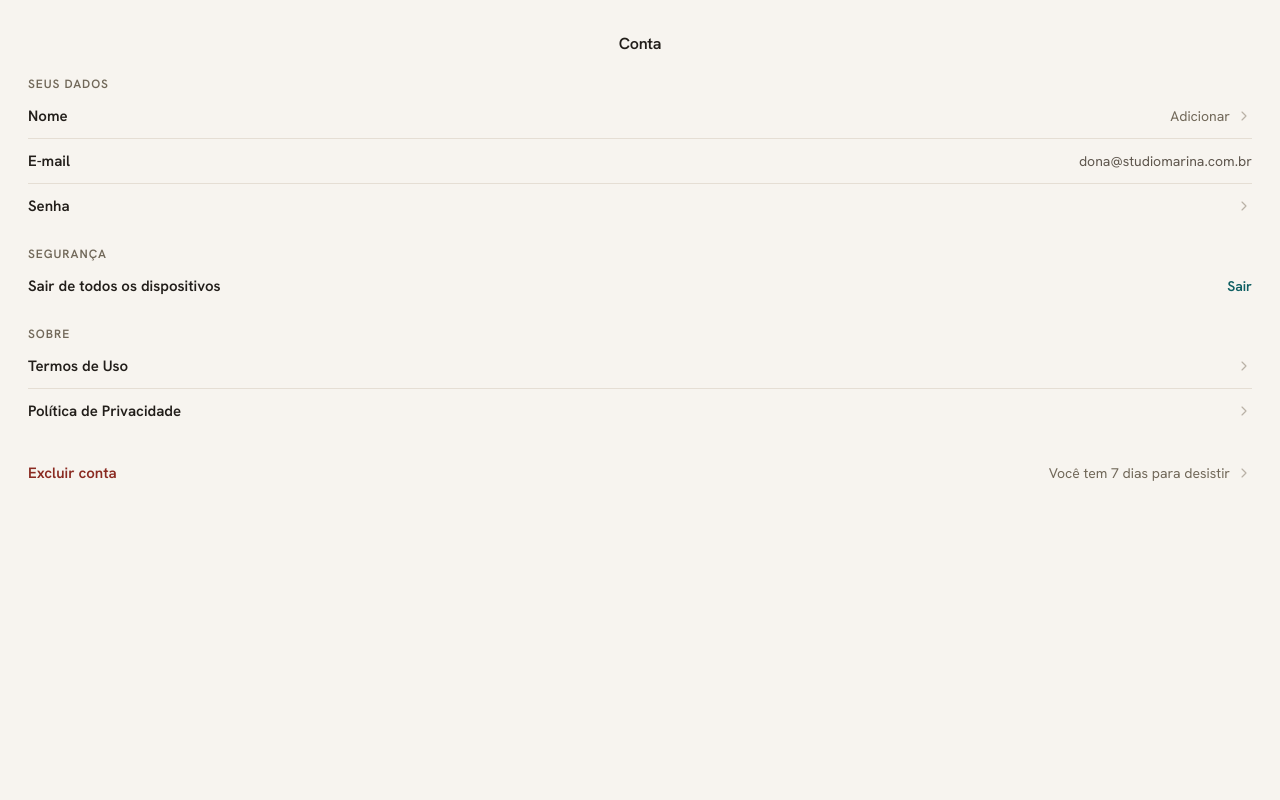
Test: Conta mostra e edita o nome (Goal067) › salvar grava pelo PATCH /v1/account/profile e relê a sessão
Click the button "Nome Adicionar".
click(48, 116)  # box [28,94,1252,139]
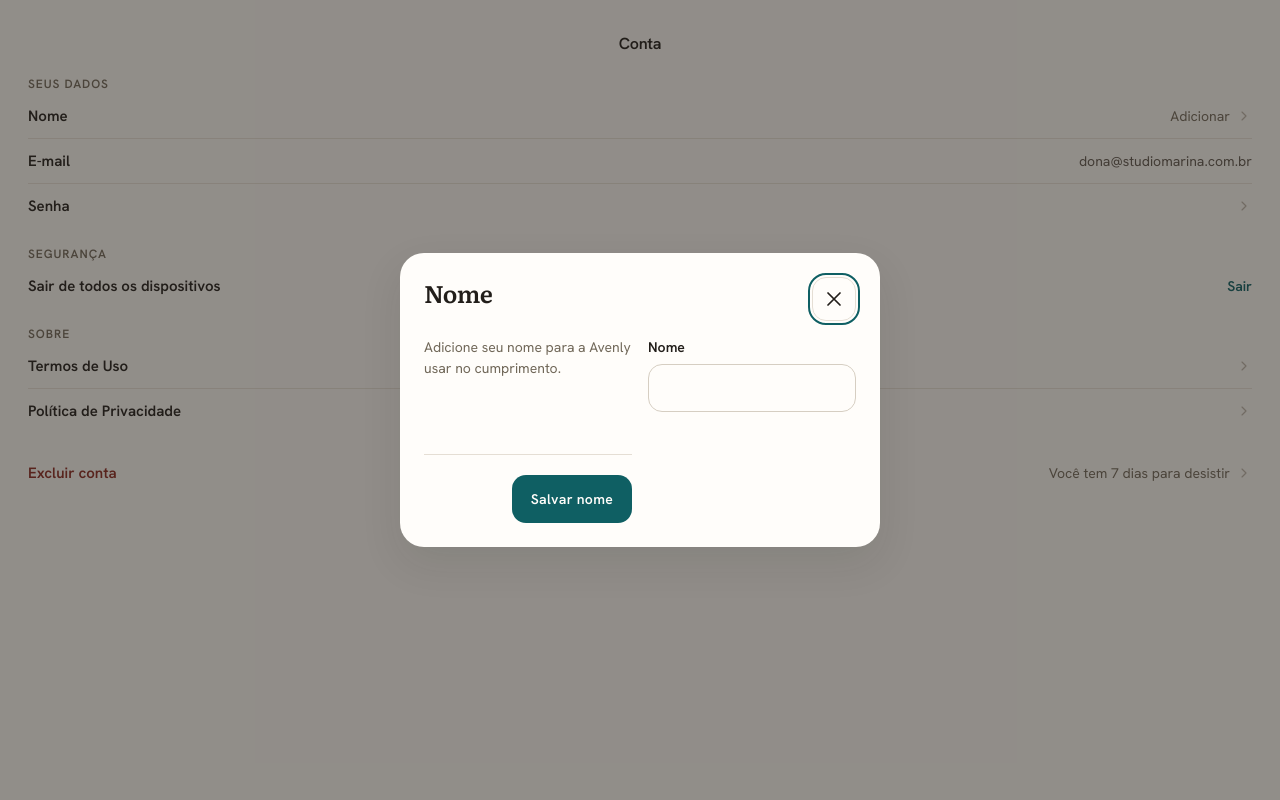
Type "Maria Clara" into the field labelled "Nome".
click(752, 388); type("Maria Clara")  # box [648,364,856,412]
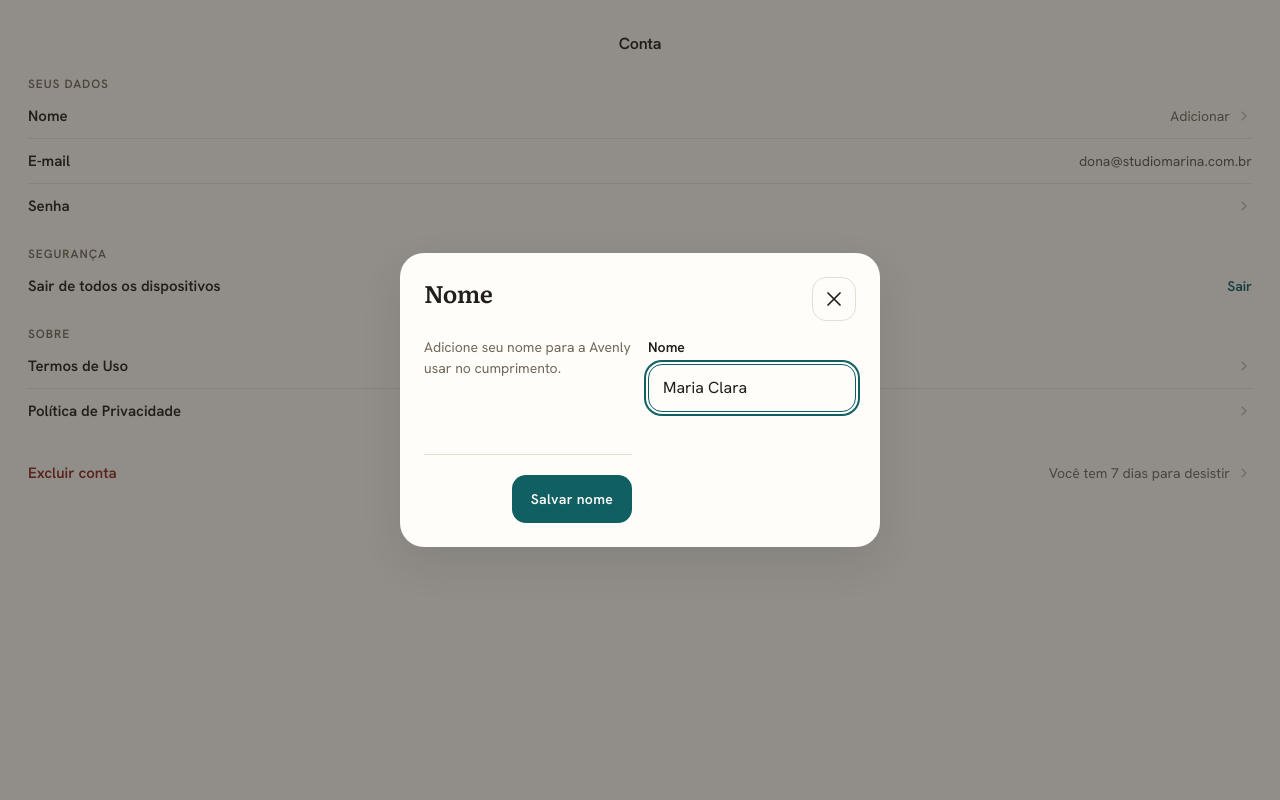
Click the button "Salvar nome".
click(572, 499)  # box [512,475,632,523]
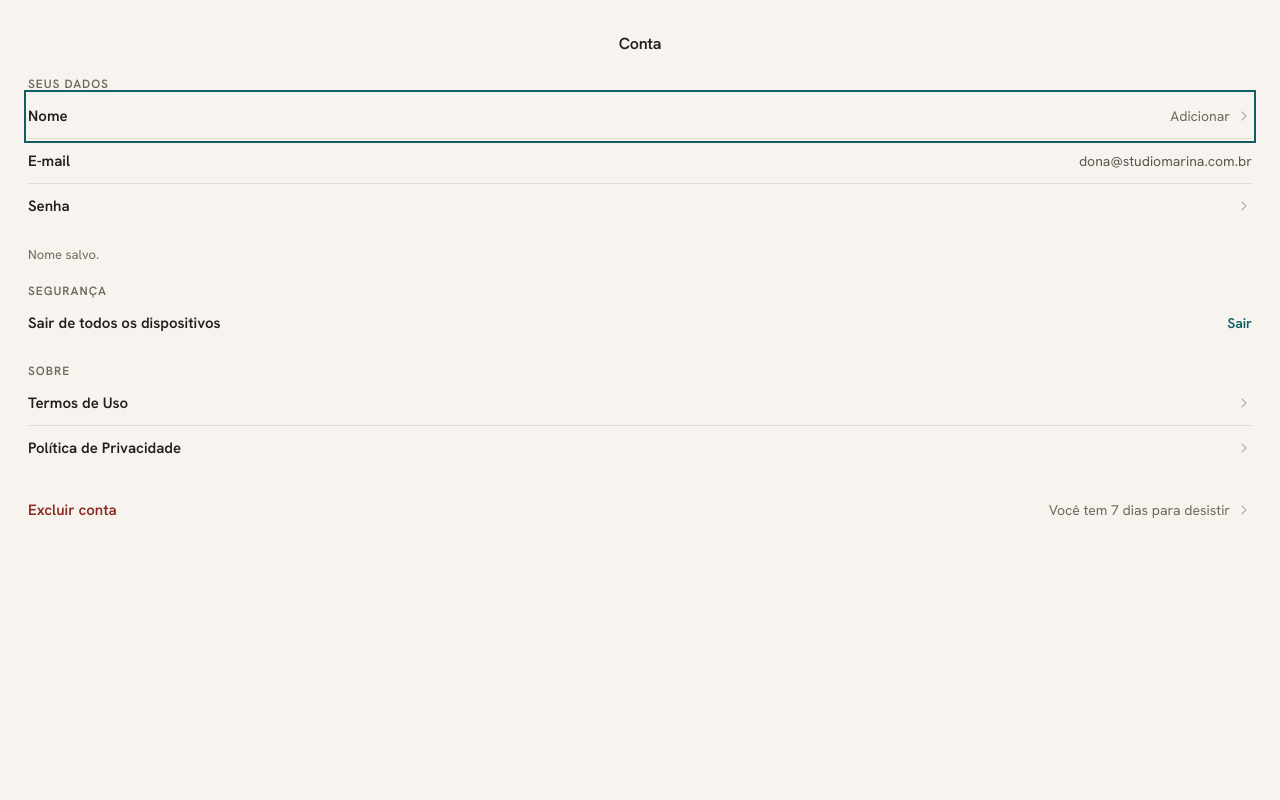
Check: the text "Nome salvo." is shown, box [28,246,99,263]
